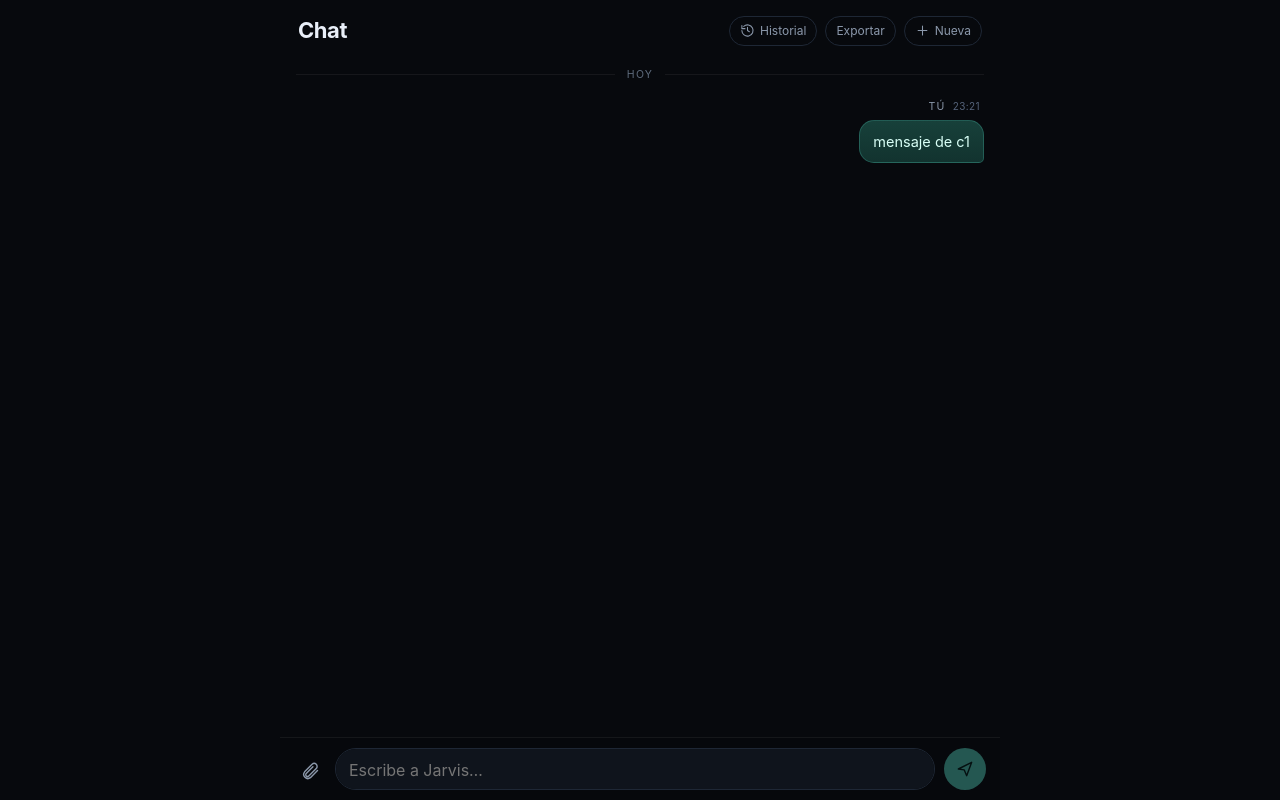
Scenario: Chat · conversaciones › abre otra conversación desde el historial
Check: the text "mensaje de c1" is shown, box [873,132,970,150]
What coordinates should you click on to do the following:
click the button with aria-label "Conversaciones"
I would click on:
 (773, 30)
Its box is [729,16,817,46].
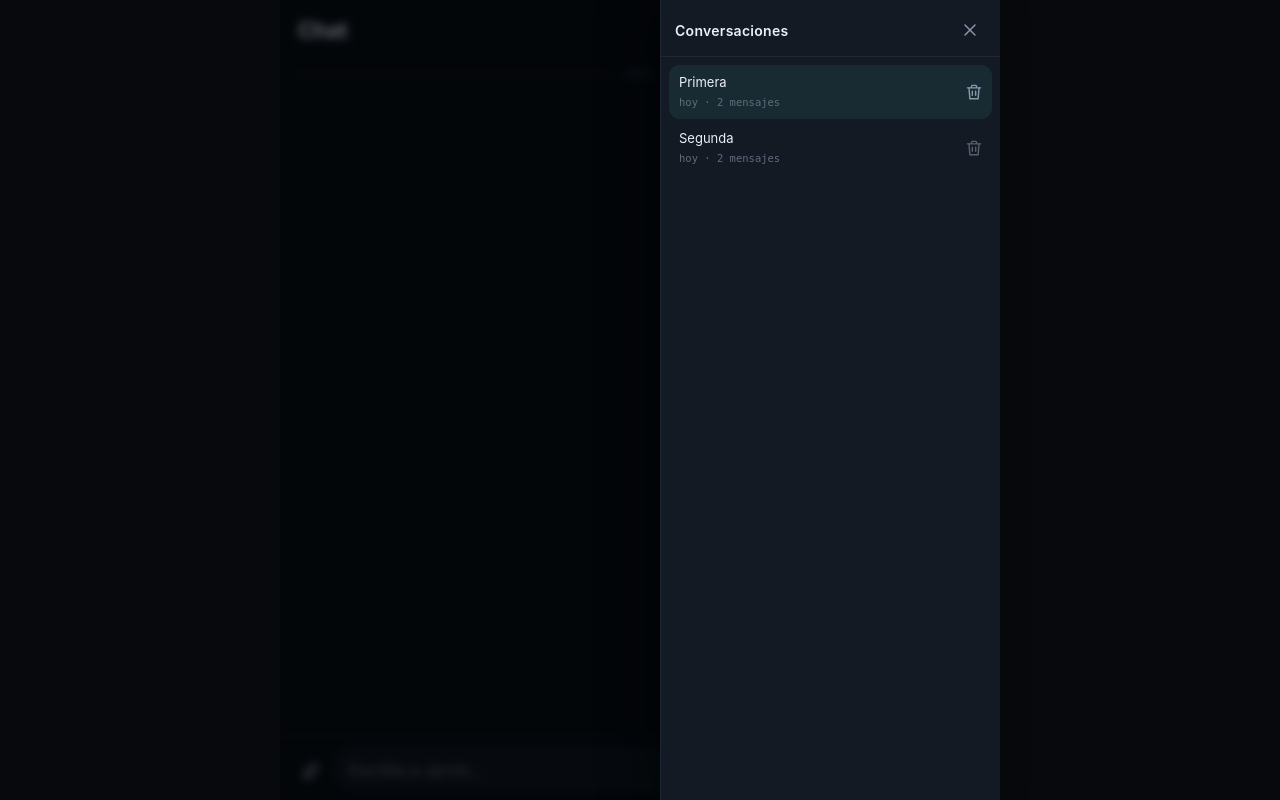
Check: the text "Segunda" is shown
What coordinates should you click on to do the following:
click the text "Segunda"
I would click on:
 (706, 139)
Its box is [679,130,734,148].
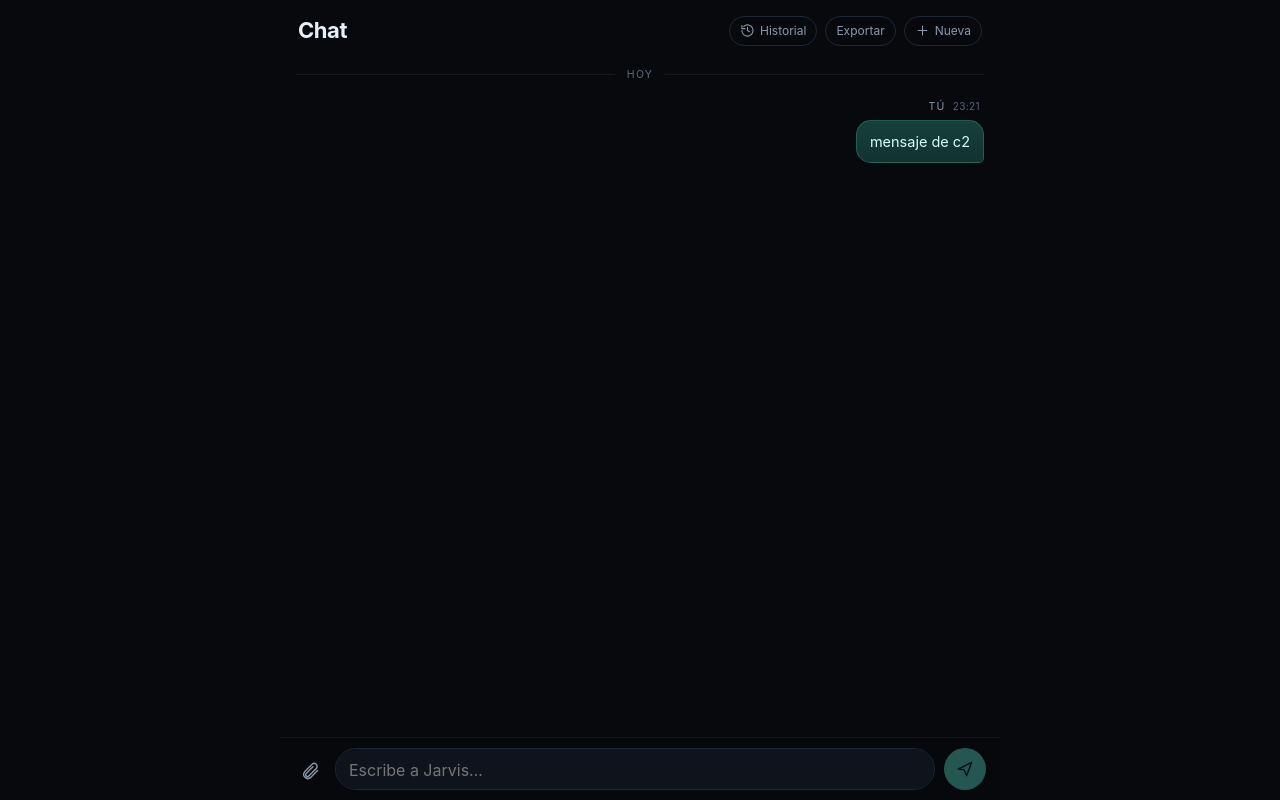
Check: the text "mensaje de c2" is shown, box [870,132,970,150]
